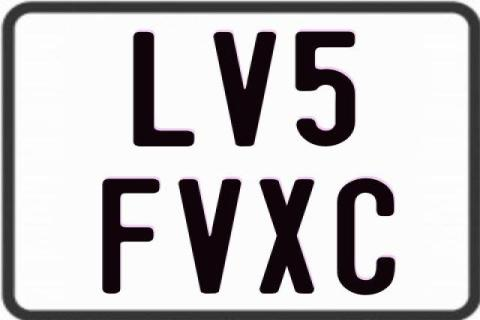0: (295, 30, 356, 148)
C: (335, 177, 397, 297)
F: (99, 177, 157, 293)
L: (133, 32, 197, 147)
V: (212, 32, 276, 149), (178, 177, 243, 292)
X: (258, 179, 314, 295)
